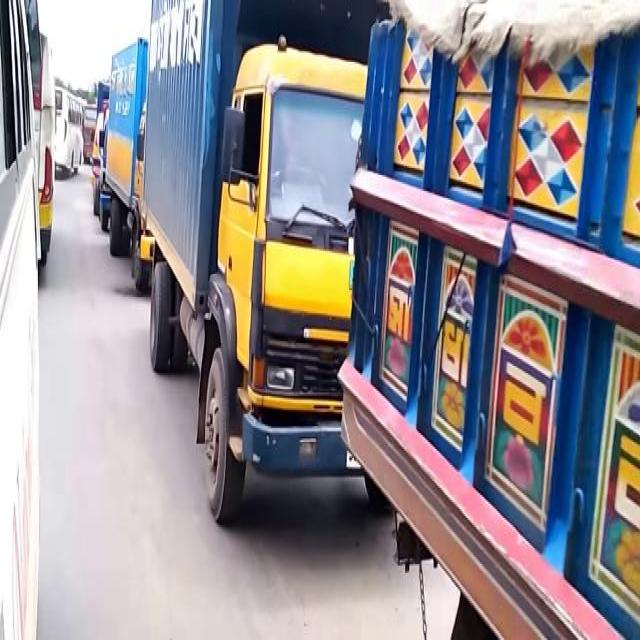18: (333, 11, 635, 630), (140, 6, 374, 522), (105, 34, 151, 286)
Truck: (31, 30, 58, 269), (54, 84, 84, 176), (82, 102, 98, 162)
